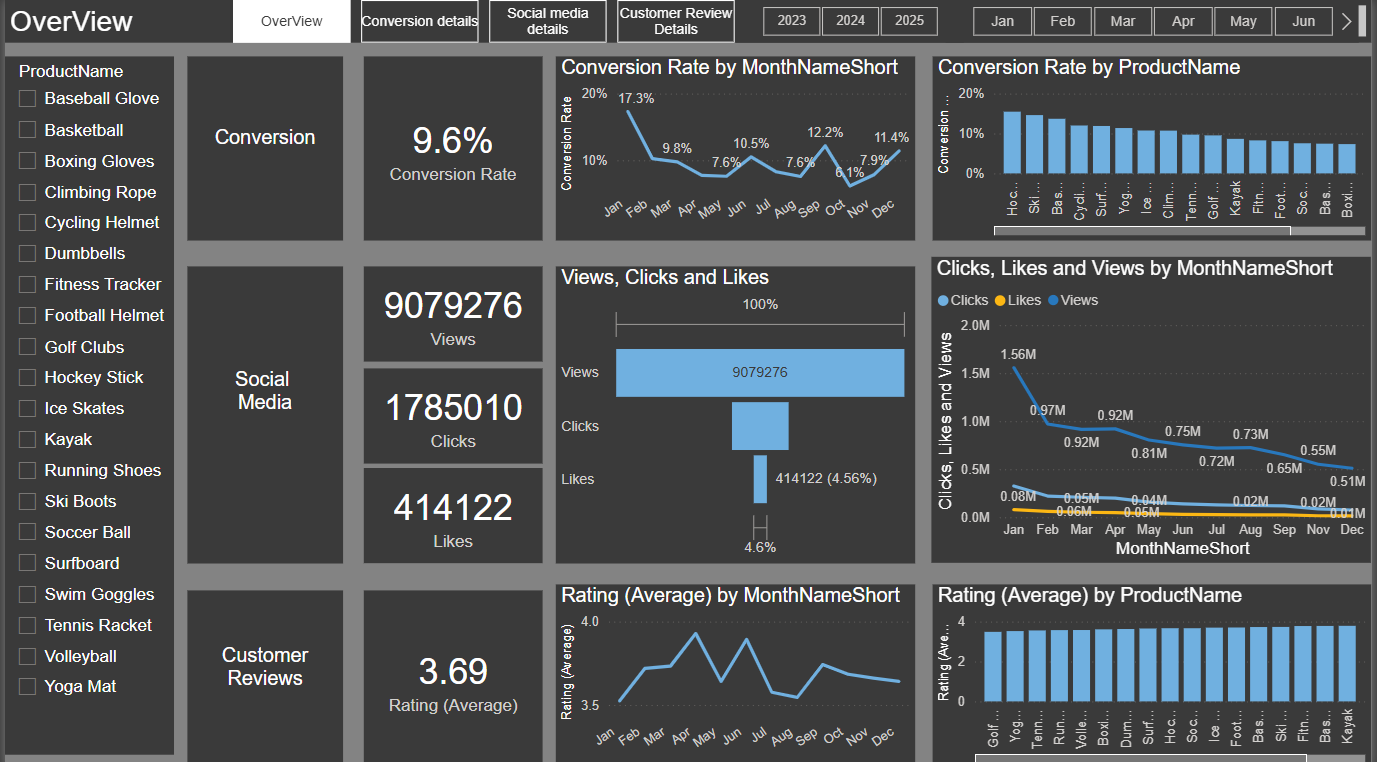

The dashboard page shown, as its layout file describes it:
{"tool":"powerbi","page":{"name":"OverView","canvas":[1280,720],"ordinal":0},"visuals":[{"type":"textbox","box":[0,0,1280,40],"z":0},{"type":"slicer","fields":{"Values":["products.ProductName"]},"box":[0,52.7,158.2,654.5],"z":1000},{"type":"textbox","box":[170.9,52.7,145.5,172.7],"z":2000},{"type":"textbox","box":[170.9,249.1,145.5,278.2],"z":3000},{"type":"textbox","box":[170.9,552.7,145.5,167.3],"z":4000},{"type":"card","fields":{"Values":["Calculations.Conversion Rate"]},"box":[336.4,52.7,167.3,172.7],"z":5000},{"type":"card","fields":{"Values":["Calculations.Views"]},"box":[336.4,249.1,167.3,89.1],"z":6000},{"type":"card","fields":{"Values":["Calculations.Clicks"]},"box":[336.4,345.5,167.3,89.1],"z":7000},{"type":"card","fields":{"Values":["Calculations.Likes"]},"box":[336.4,438.2,167.3,89.1],"z":8000},{"type":"card","fields":{"Values":["Calculations.Rating (Average)"]},"box":[336.4,552.7,167.3,167.3],"z":9000},{"type":"slicer","fields":{"Values":["Calendar.Year"]},"box":[685,0,213.3,40],"z":10000},{"type":"slicer","fields":{"Values":["Calendar.MonthNameShort"]},"box":[881.7,0,386.7,40],"z":11000},{"type":"lineChart","fields":{"Category":["Calendar.MonthNameShort"],"Y":["Calculations.Conversion Rate"]},"box":[516.4,52.7,336.4,172.7],"z":12000},{"type":"clusteredColumnChart","fields":{"Category":["products.ProductName"],"Y":["Calculations.Conversion Rate"]},"box":[869.1,52.7,410.9,172.7],"z":13000},{"type":"lineChart","fields":{"Category":["Calendar.MonthNameShort"],"Y":["Calculations.Clicks","Calculations.Likes","Calculations.Views"]},"box":[868.3,240,411.7,286.7],"z":14000},{"type":"funnel","fields":{"Y":["Calculations.Views","Calculations.Clicks","Calculations.Likes"]},"box":[516.4,249.1,336.4,278.2],"z":15000},{"type":"lineChart","fields":{"Category":["Calendar.MonthNameShort"],"Y":["Calculations.Rating (Average)"]},"box":[516.4,547.3,336.4,172.7],"z":16000},{"type":"clusteredColumnChart","fields":{"Y":["Calculations.Rating (Average)"],"Category":["products.ProductName"]},"box":[869.1,547.3,410.9,172.7],"z":17000},{"type":"pageNavigator","box":[213.3,0,471.7,40],"z":17001}]}

Visuals, with their boxes in screenshot pixels (x1, y1, x2, y2), scaled from the page's 1280x720 canvas onto the 1377x762 screenshot:
textbox: [left=0, top=0, right=1376, bottom=42]
slicer - products.ProductName: [left=0, top=56, right=170, bottom=748]
textbox: [left=184, top=56, right=340, bottom=239]
textbox: [left=184, top=264, right=340, bottom=558]
textbox: [left=184, top=585, right=340, bottom=761]
card - Calculations.Conversion Rate: [left=362, top=56, right=542, bottom=239]
card - Calculations.Views: [left=362, top=264, right=542, bottom=358]
card - Calculations.Clicks: [left=362, top=366, right=542, bottom=460]
card - Calculations.Likes: [left=362, top=464, right=542, bottom=558]
card - Calculations.Rating (Average): [left=362, top=585, right=542, bottom=761]
slicer - Calendar.Year: [left=737, top=0, right=966, bottom=42]
slicer - Calendar.MonthNameShort: [left=949, top=0, right=1365, bottom=42]
lineChart - Calendar.MonthNameShort x Calculations.Conversion Rate: [left=556, top=56, right=917, bottom=239]
clusteredColumnChart - products.ProductName x Calculations.Conversion Rate: [left=935, top=56, right=1376, bottom=239]
lineChart - Calendar.MonthNameShort x Calculations.Clicks: [left=934, top=254, right=1376, bottom=557]
funnel - Calculations.Views x Calculations.Clicks: [left=556, top=264, right=917, bottom=558]
lineChart - Calendar.MonthNameShort x Calculations.Rating (Average): [left=556, top=579, right=917, bottom=761]
clusteredColumnChart - Calculations.Rating (Average) x products.ProductName: [left=935, top=579, right=1376, bottom=761]
pageNavigator: [left=229, top=0, right=737, bottom=42]
